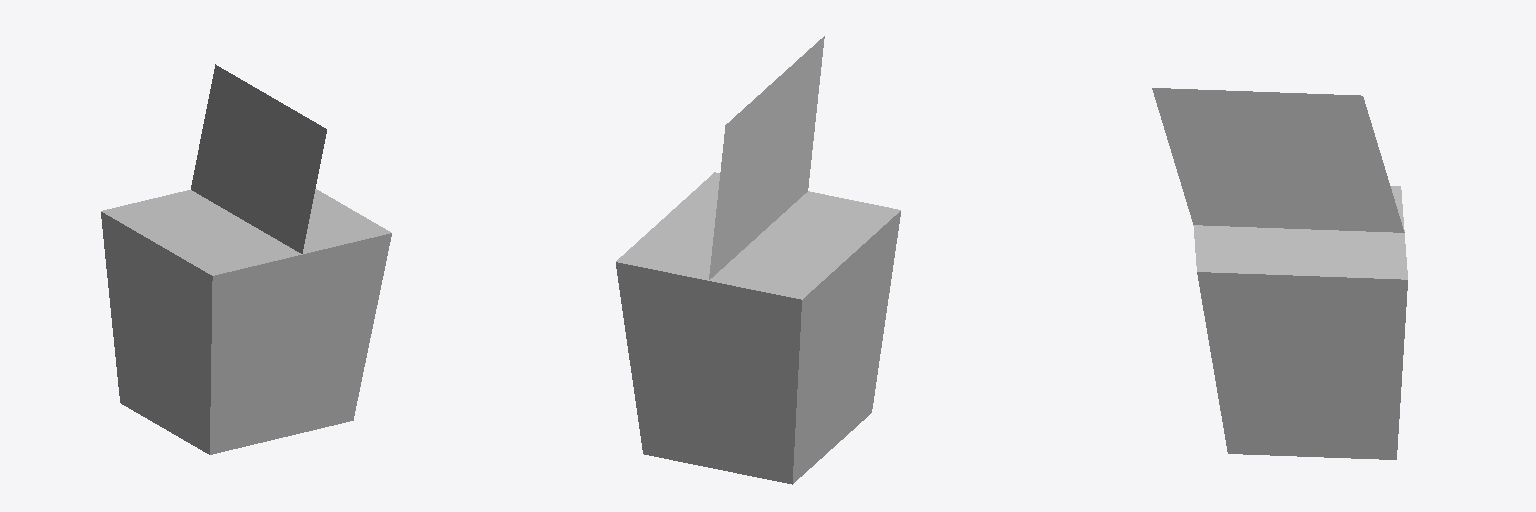
File: lacedonhead.obj
The picture shows the model from 3 angles: view 1: azimuth 30°, elevation 25°; view 2: azimuth 150°, elevation 25°; view 3: azimuth 270°, elevation 25°; orthographic projection.
Visible parts, largest first — view 1: lacedonhead; view 2: lacedonhead; view 3: lacedonhead.
Part boxes in pixels (x1,y1,x2,y2): lacedonhead: (101, 64, 391, 454); lacedonhead: (616, 36, 900, 484); lacedonhead: (1152, 88, 1407, 459).
Bounding box in the file's own units: 0.2966 × 0.5138 × 0.3476.